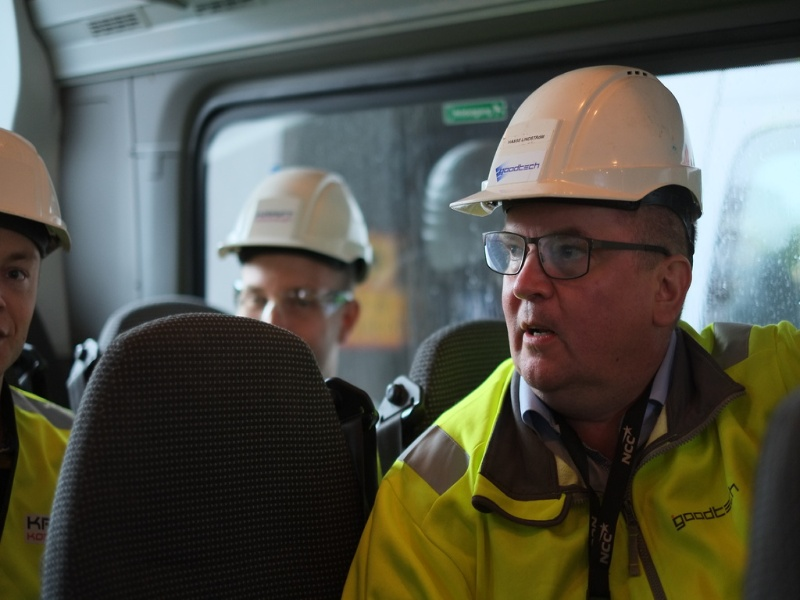Baret: (449, 65, 705, 222), (216, 165, 376, 268)
